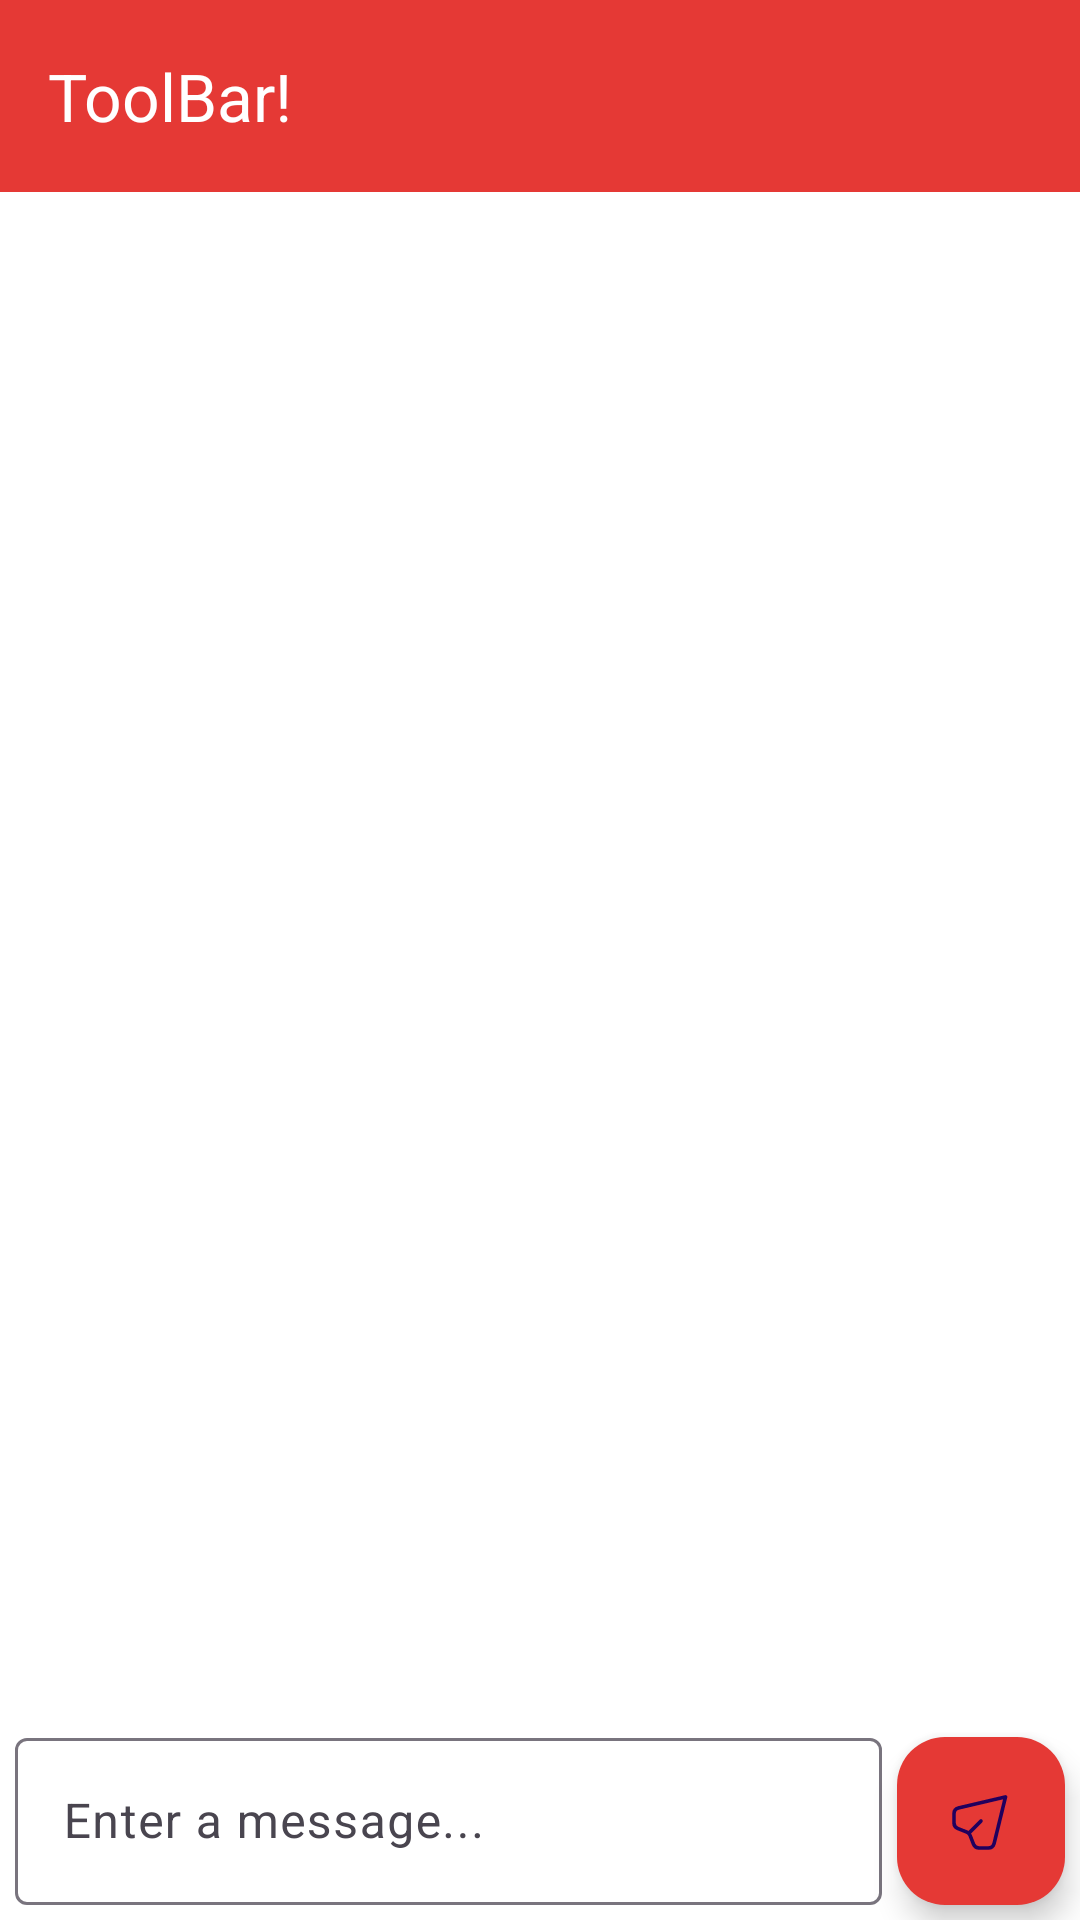

Named icons in this screenshot (1080 x 1920) and their bounding boxes, [left=x1, top=y1, right=x2, bottom=y2]:
send: [left=897, top=1737, right=1065, bottom=1905]
